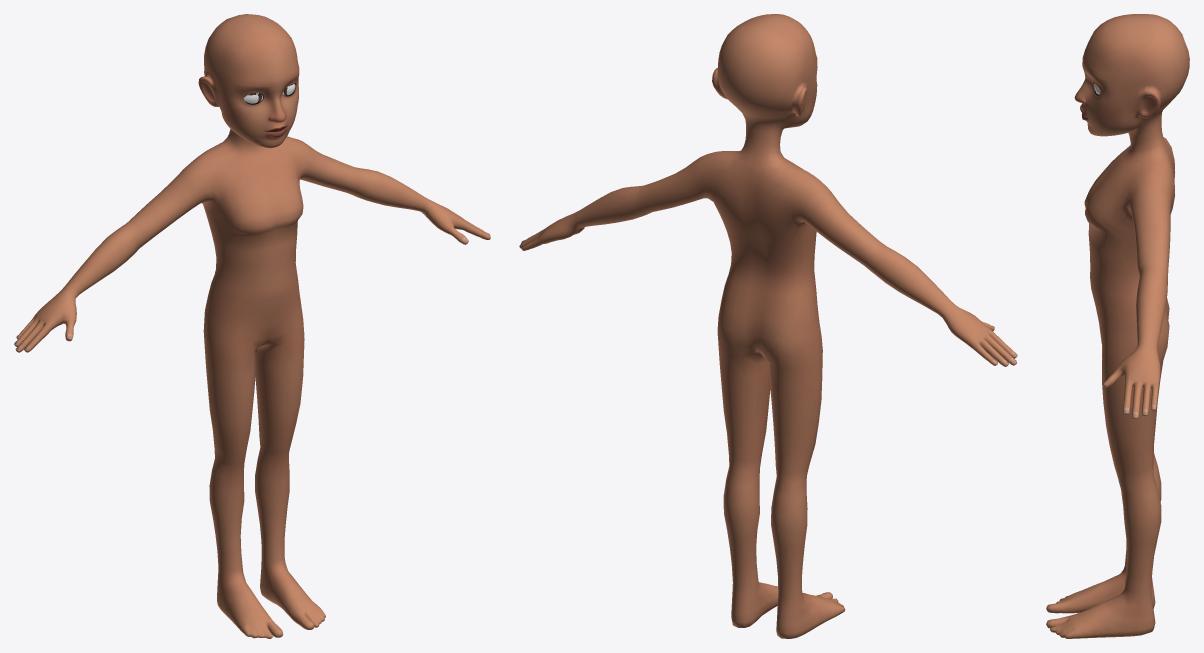
The model's file is frame_0002.glb.
3 views of the same model, side by side, from view 1: azimuth 30°, elevation 25°; view 2: azimuth 150°, elevation 25°; view 3: azimuth 270°, elevation 25° (orthographic). The views are drawn at different scales.
Parts seen in each view (by area): view 1: frame_0002_head_geo; view 2: frame_0002_head_geo; view 3: frame_0002_head_geo.
Part boxes in pixels (x1,y1,x2,y2): frame_0002_head_geo: (14,14,490,638); frame_0002_head_geo: (519,14,1017,638); frame_0002_head_geo: (1046,14,1189,638).
Bounding box in the file's own units: 1.28 × 1.5 × 0.3245.
4 materials, 2 textured.
